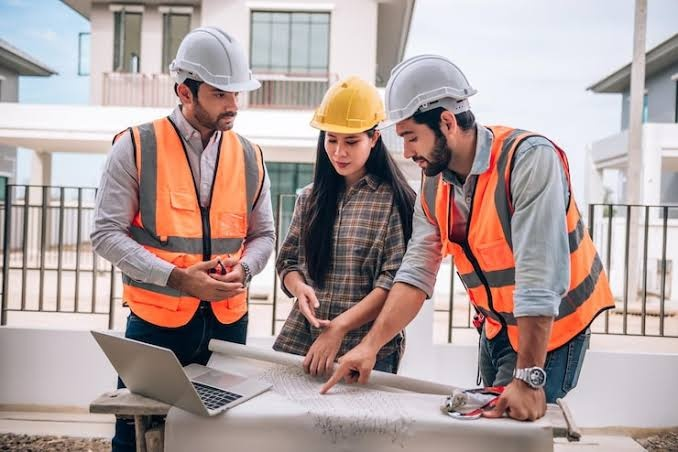hardhat: (150, 21, 258, 90), (383, 60, 488, 123), (306, 78, 383, 140)
no_safety_vest: (284, 173, 398, 368)
person: (383, 53, 617, 427), (86, 21, 275, 388), (279, 76, 412, 390)
safety_vest: (413, 179, 612, 348), (103, 121, 261, 331)
